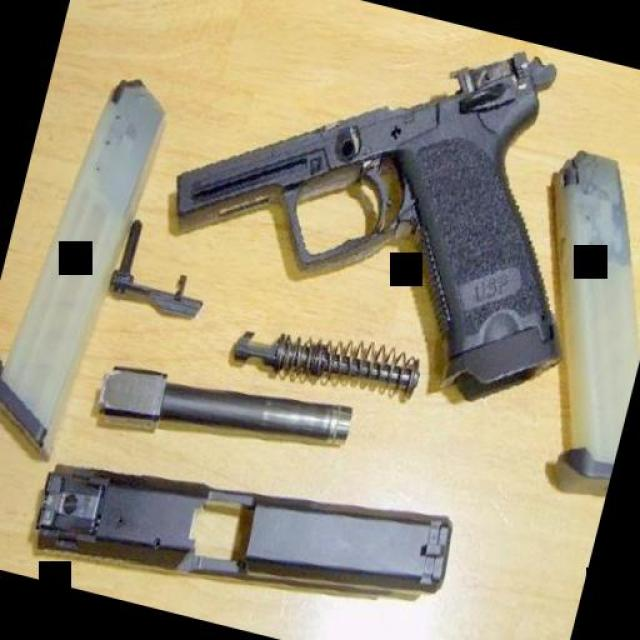gun: (139, 0, 639, 429)
